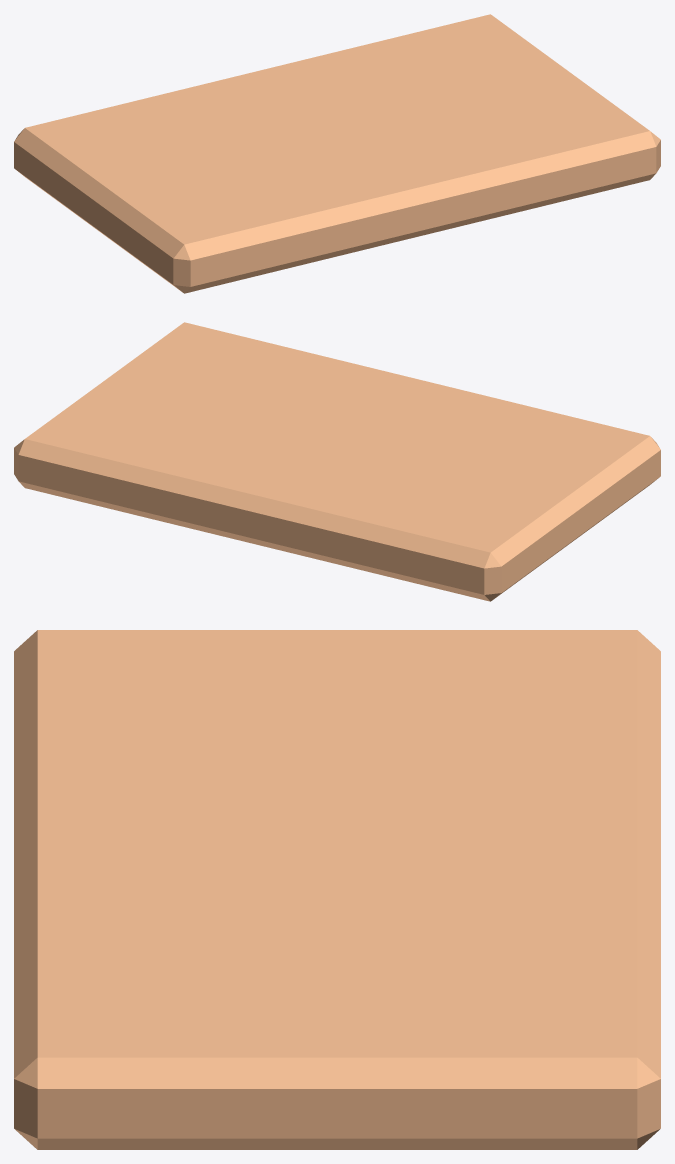
The picture shows the model from 3 angles, top to bottom: view 1: azimuth 30°, elevation 25°; view 2: azimuth 150°, elevation 25°; view 3: azimuth 270°, elevation 25°; orthographic projection. The views are drawn at different scales.
Parts seen in each view (by area): view 1: Low stage; view 2: Low stage; view 3: Low stage.
Part boxes in pixels (x1,y1,x2,y2): Low stage: (14,14,660,293); Low stage: (14,322,660,601); Low stage: (14,630,660,1149).
Size of the model in its own units: 2.7 by 0.26 by 1.65.
Materials: 1 (1 with a texture image).
